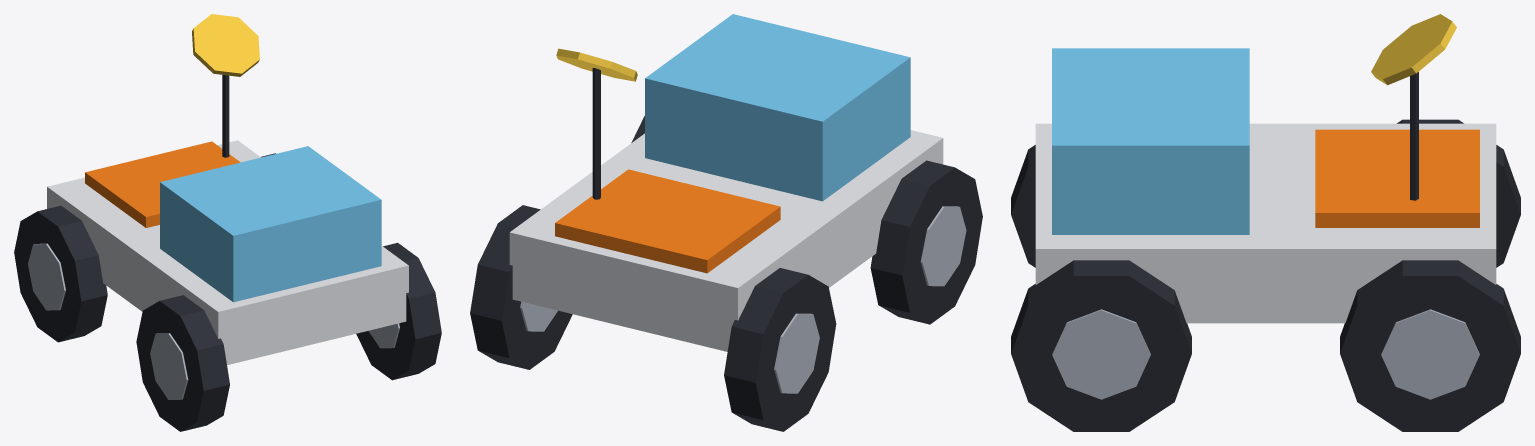
Rendered from lunar-moon-rover.glb.
3 views of the same model, side by side, from view 1: azimuth 30°, elevation 25°; view 2: azimuth 150°, elevation 25°; view 3: azimuth 270°, elevation 25° (orthographic). The views are drawn at different scales.
Visible parts, largest first — view 1: moon_rover; view 2: moon_rover; view 3: moon_rover.
Boxes of the visible parts, x1,y1,x2,y2 form: moon_rover: (14,14,441,431); moon_rover: (470,14,982,431); moon_rover: (1011,14,1520,431).
Size of the model in its own units: 2.28 by 2.46 by 3.1.
